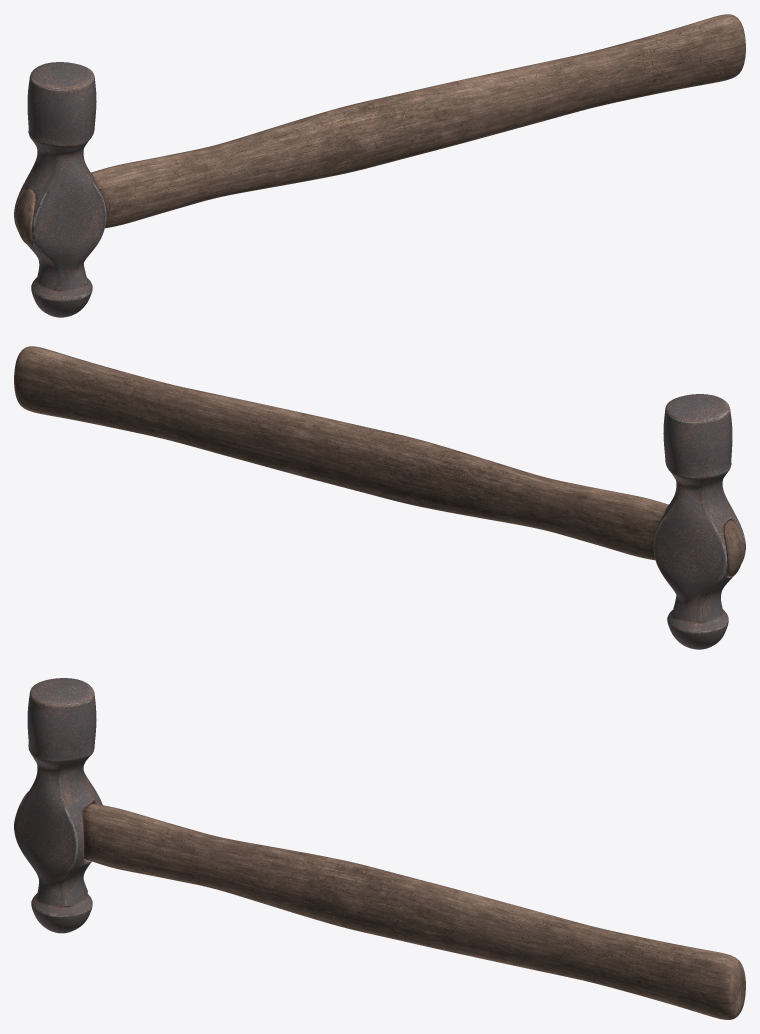
Rendered from ball_peen_hammer.glb.
3 views of the same model, one above another, from view 1: azimuth 30°, elevation 25°; view 2: azimuth 150°, elevation 25°; view 3: azimuth 330°, elevation 25° (orthographic).
Visible parts, largest first — view 1: ball_peen_hammer; view 2: ball_peen_hammer; view 3: ball_peen_hammer.
Part boxes in pixels (x1,y1,x2,y2): ball_peen_hammer: (14,14,745,317); ball_peen_hammer: (14,346,745,649); ball_peen_hammer: (14,678,745,1019).
Size of the model in its own units: 0.6486 by 0.209 by 0.0589.
1 material, 1 textured.
